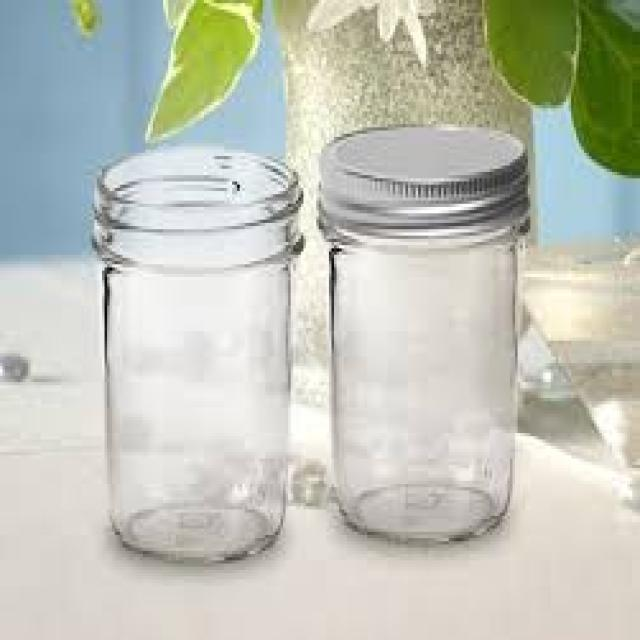glass: (89, 144, 301, 561), (327, 226, 513, 541)
metal: (311, 118, 528, 248)
